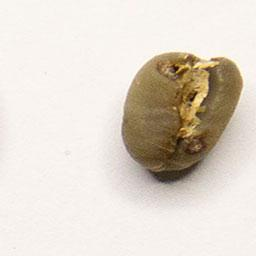peaberry: (116, 47, 245, 176)
